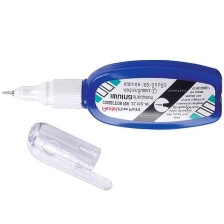correction_fluid: (0, 56, 224, 130)
